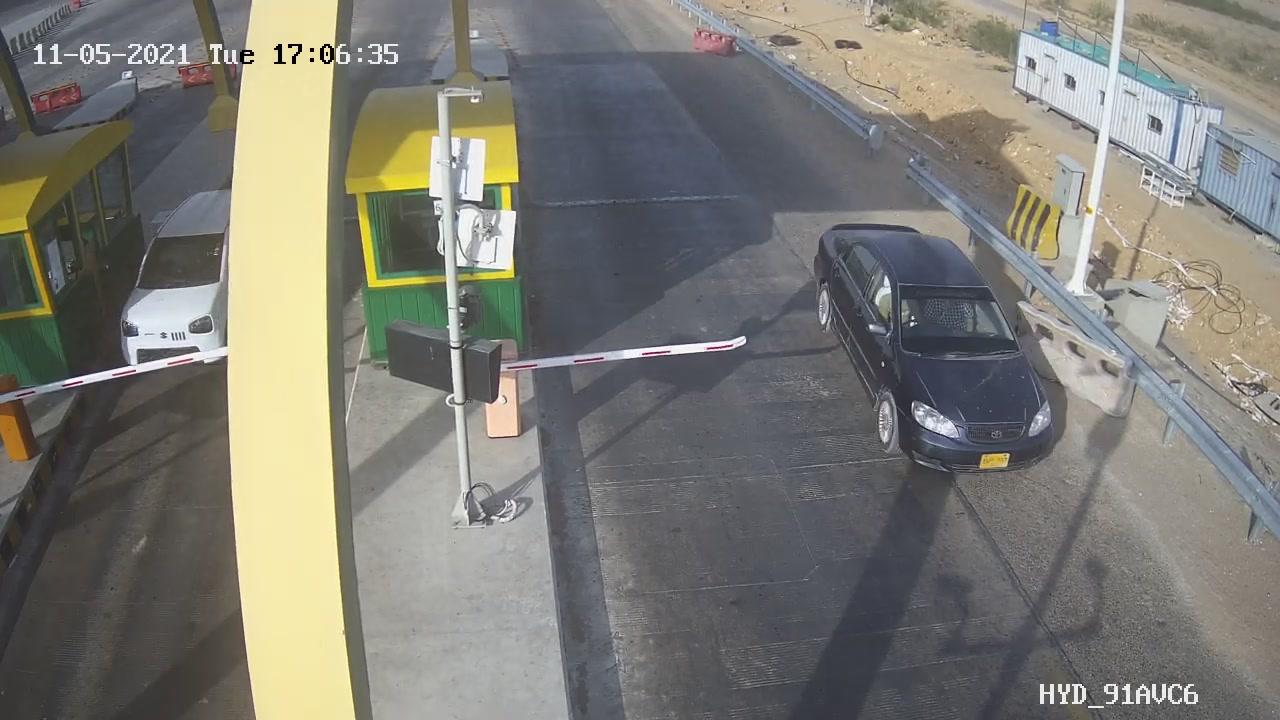F1: (792, 205, 1079, 494)
